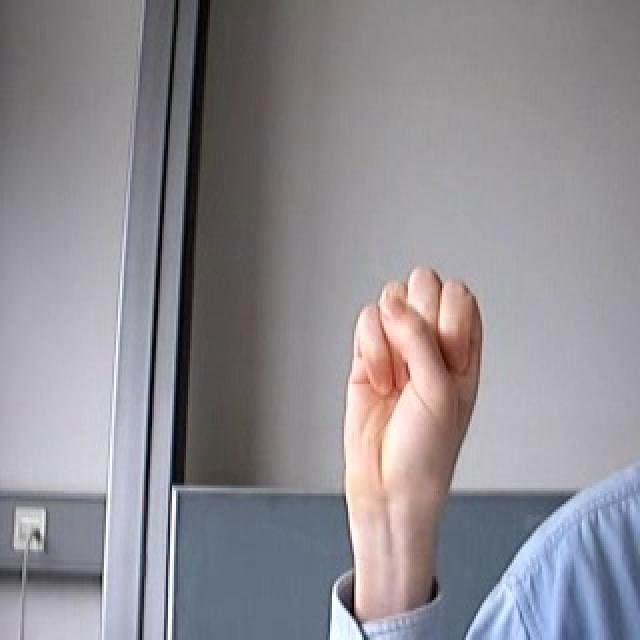S: (331, 250, 490, 503)
